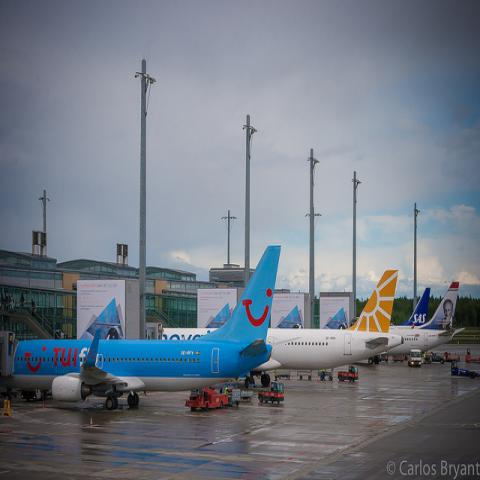car: (427, 352, 446, 364)
truck: (185, 385, 230, 411), (257, 382, 284, 404), (338, 365, 358, 383), (407, 348, 421, 366)
